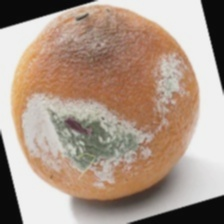orange: (0, 12, 190, 196)
